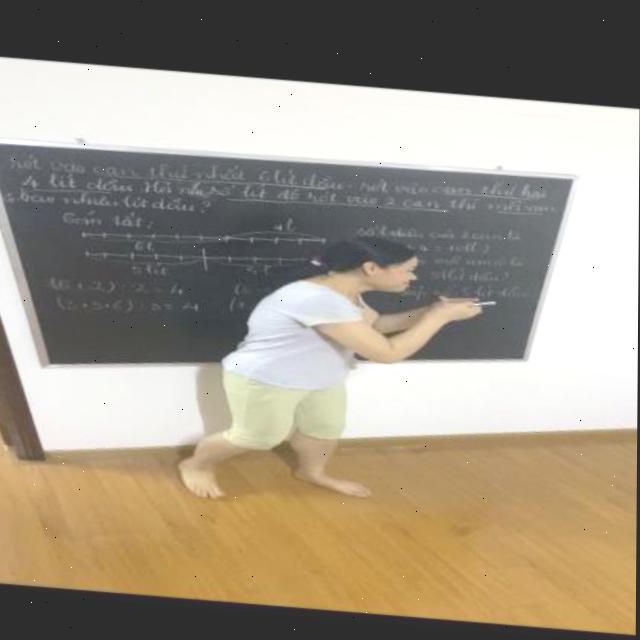cigarette: (471, 291, 500, 300)
